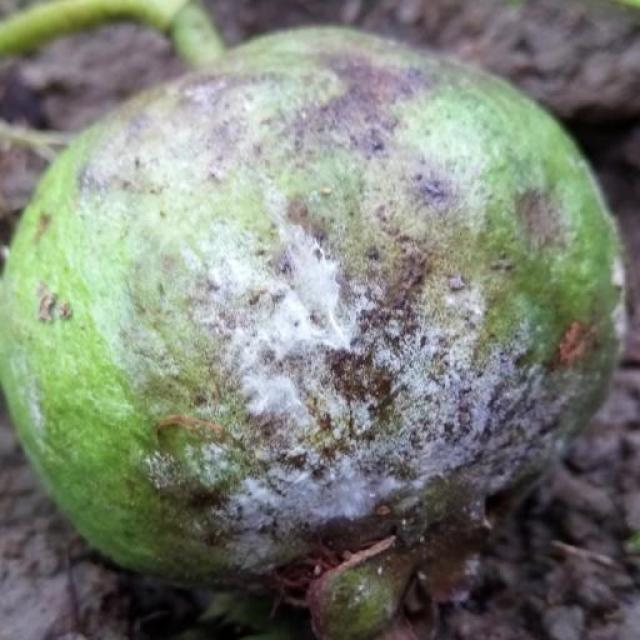Phytopthora: (0, 29, 621, 578)
